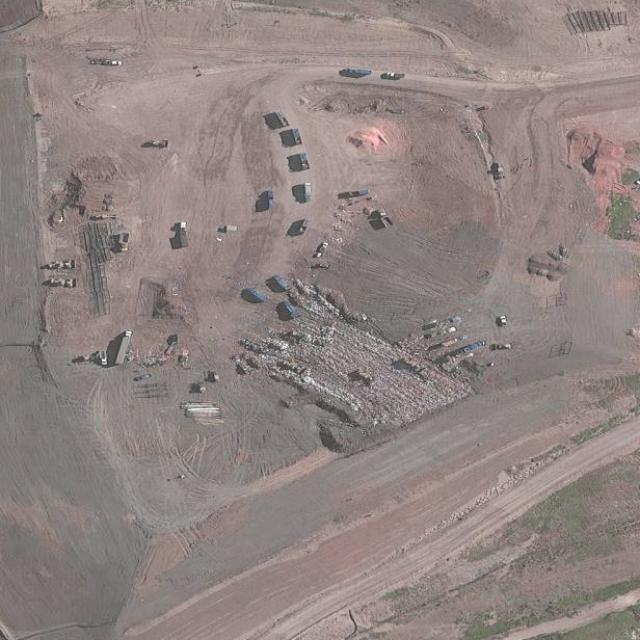dump_site: (194, 259, 484, 457)
